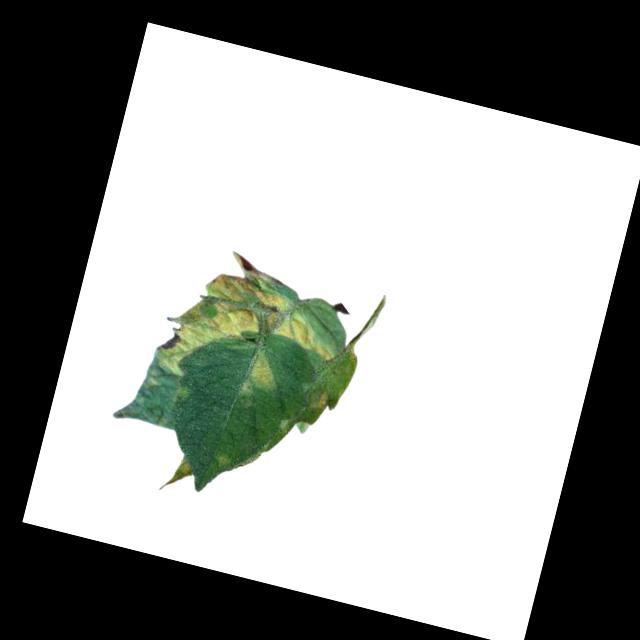Leaf_Mold: (152, 237, 275, 394), (245, 284, 347, 361), (237, 347, 284, 406), (152, 451, 198, 501), (309, 385, 335, 415)
